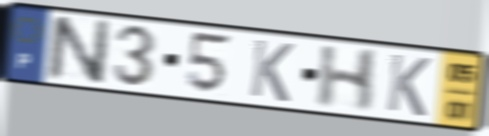3: (110, 23, 160, 90)
5: (183, 29, 235, 98)
H: (313, 43, 382, 114)
K: (383, 51, 433, 120), (247, 36, 296, 105)
N: (45, 14, 114, 87)
